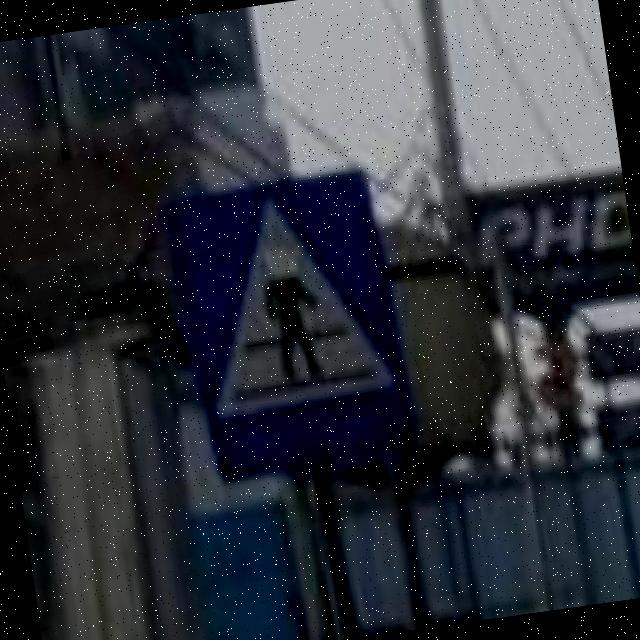Przejscie dla pieszych: (166, 170, 418, 483)
